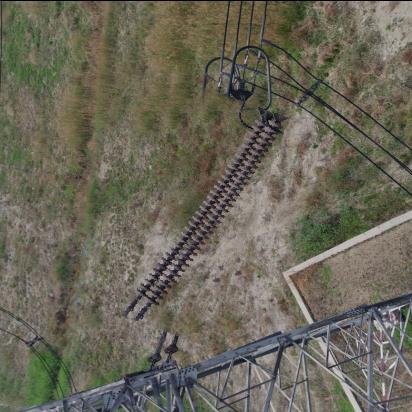insulator: (143, 92, 271, 343)
